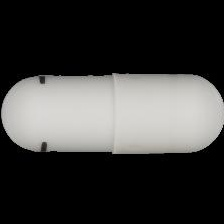63629-3367: (0, 0, 224, 224)
